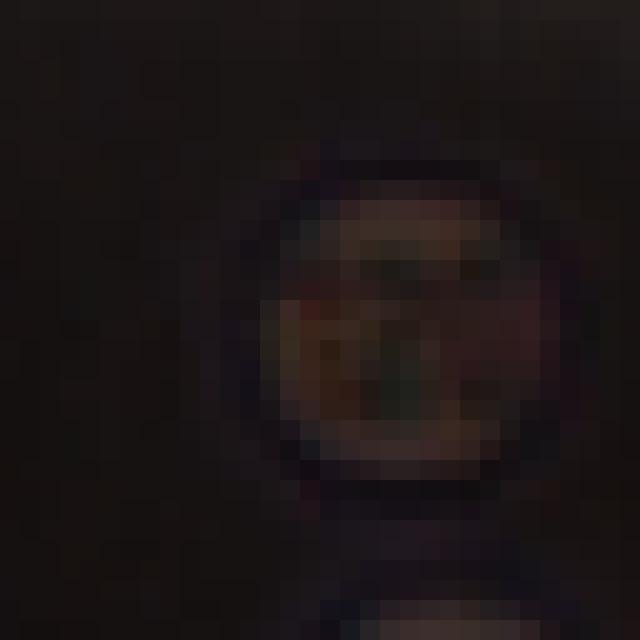SPEED LIMIT 120: (243, 159, 597, 491)
